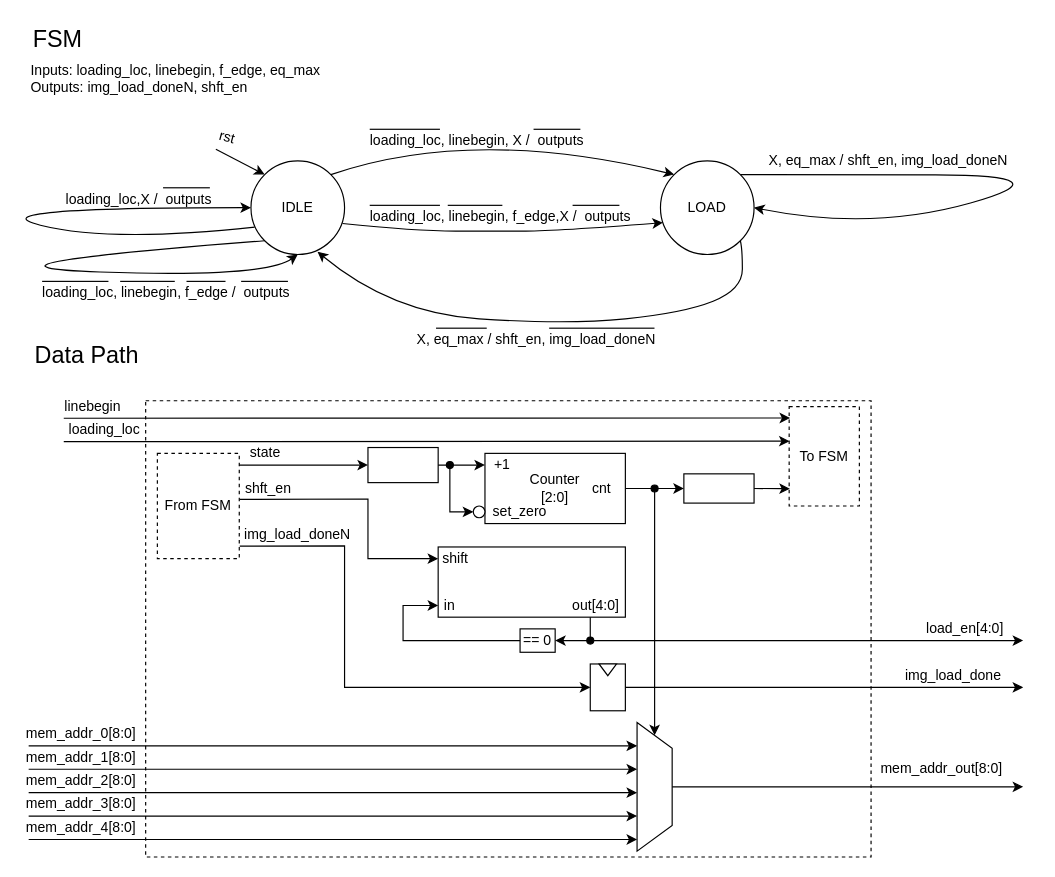
Some shapes in this 1055 by 877 pixel diagram are drawn without their labels. Here are the shapes that lost their labels. From the top down, the box of each, then its label:
(367, 446, 438, 483): == LOAD
(683, 473, 754, 503): == 3'd5
(437, 546, 625, 617): Shift Reg. [4:0]
